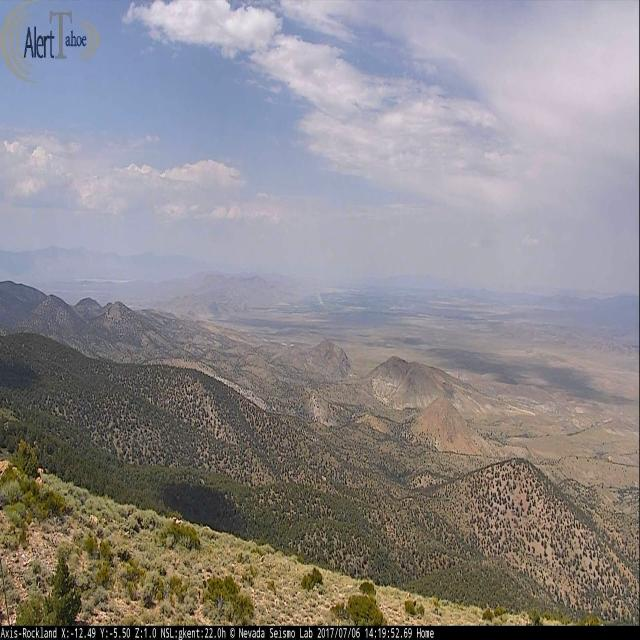smoke: (316, 292, 324, 303)
